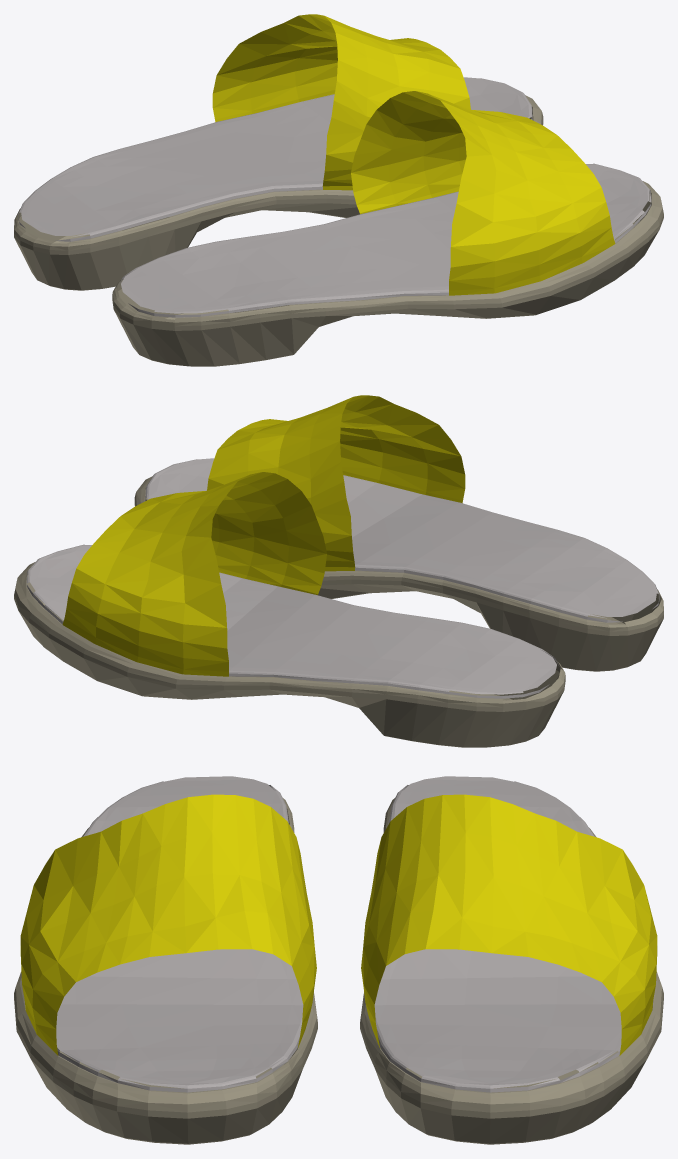
The model's file is slippers.dae.
3 views of the same model, one above another, from view 1: azimuth 30°, elevation 25°; view 2: azimuth 150°, elevation 25°; view 3: azimuth 270°, elevation 25° (orthographic). The views are drawn at different scales.
Visible parts, largest first — view 1: instance_1, instance_1_002, instance_1_001; view 2: instance_1, instance_1_002, instance_1_001; view 3: instance_1, instance_1_002, instance_1_001.
Boxes of the visible parts, box(x1,y1,x2,y2) form: instance_1: box(212, 14, 615, 295); instance_1_002: box(18, 77, 651, 317); instance_1_001: box(14, 95, 663, 366); instance_1: box(62, 395, 465, 676); instance_1_002: box(26, 458, 659, 698); instance_1_001: box(14, 476, 663, 747); instance_1: box(20, 794, 657, 1055); instance_1_002: box(56, 776, 621, 1092); instance_1_001: box(14, 798, 663, 1144).
Bounding box in the file's own units: 0.2294 × 0.19 × 0.0802.
